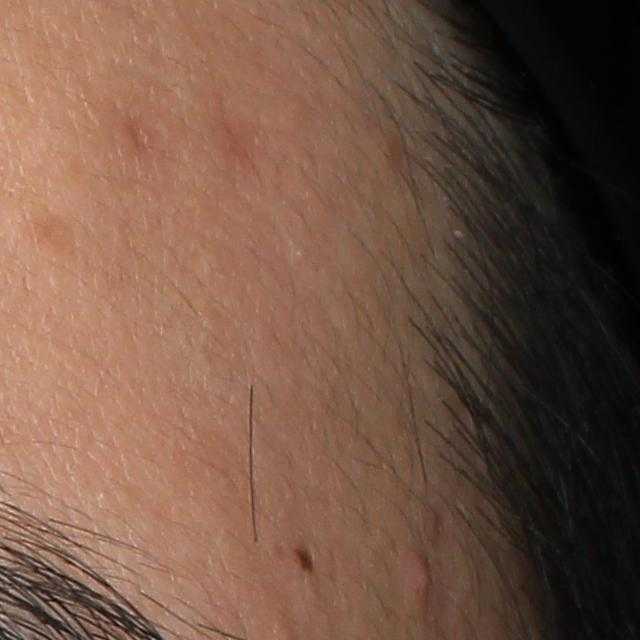nevus: (293, 547, 314, 575)
papule: (405, 549, 436, 613)
